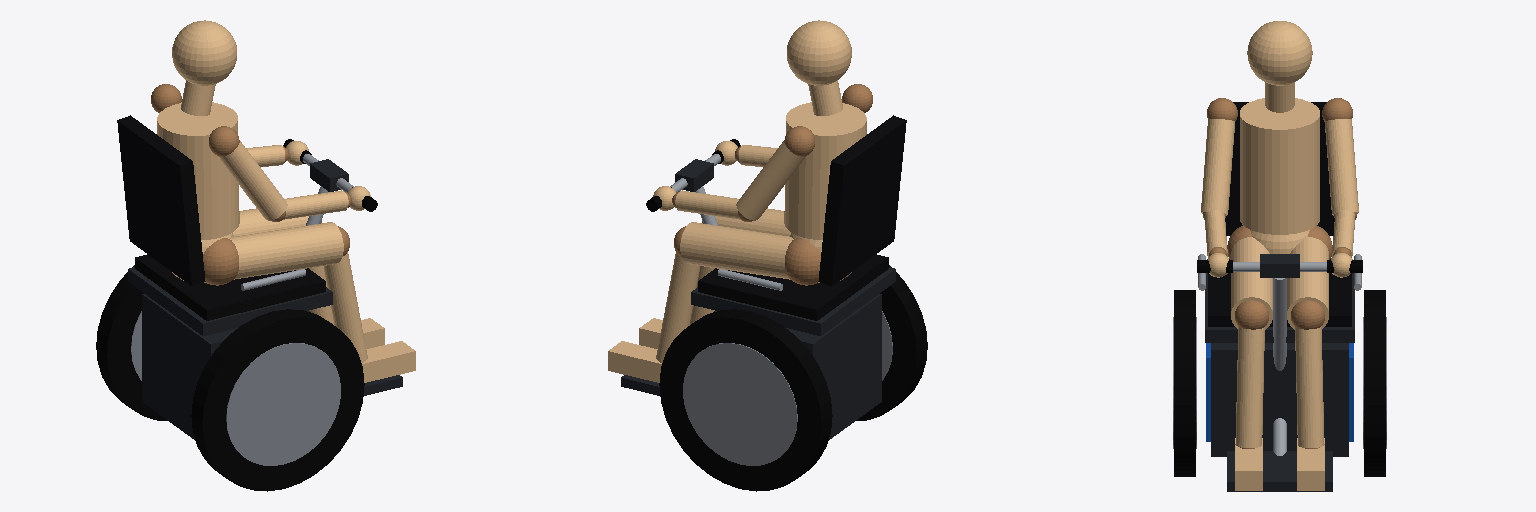
The robot description file, URDF, robot "balance_bot_rider":
<?xml version="1.0"?>
<!--
  Self-balancing chair shaped after the Genny Zero, with a seated mannequin (rider task).
  Generated by build_rider_model.py (primitive shapes only).
  Frame convention: +x forward, +y left, +z up. base_link origin 0.305 m above the wheel axle (as in tw_balance.urdf).

  Physics of base_link and the wheels is IDENTICAL to tw_balance.urdf (55 kg, 2 x 5 kg wheels, r = 0.3 m, track 0.61 m);
  only the base_link collision box changed shape (it never touches flat ground before the tilt termination).
  Rider (1.75 m mannequin, mass fractions after Dempster / Winter 2009):
    rider_legs : pelvis + legs, 46.4 % of the rider mass, fixed to the chair (fixed joint, keep merge_fixed_joints=False)
    rider      : head + trunk + arms, 53.6 % of the rider mass, on the hip joint rider_joint (axis y, + = lean forward)
  Both rider links weigh 1 kg here; the rider_mass event adds the fraction of the rider mass and scales the inertia.
  Seat top 0.64 m above the floor, hip joints 0.09 m above the seat and 0.10 m behind the axle.
-->
<robot name="balance_bot_rider">

  <material name="chassis"><color rgba="0.170 0.180 0.200 1.000"/></material>
  <material name="accent"><color rgba="0.130 0.360 0.690 1.000"/></material>
  <material name="cushion"><color rgba="0.080 0.080 0.090 1.000"/></material>
  <material name="metal"><color rgba="0.620 0.640 0.670 1.000"/></material>
  <material name="rubber"><color rgba="0.060 0.060 0.060 1.000"/></material>
  <material name="tyre"><color rgba="0.070 0.070 0.070 1.000"/></material>
  <material name="hub"><color rgba="0.550 0.570 0.600 1.000"/></material>
  <material name="mannequin"><color rgba="0.870 0.730 0.560 1.000"/></material>
  <material name="joint"><color rgba="0.660 0.500 0.360 1.000"/></material>

  <link name="base_link">
    <visual><origin xyz="0.000 0.000 -0.285" rpy="0.000 0.000 0.000"/><geometry><box size="0.400 0.440 0.380"/></geometry><material name="chassis"/></visual>
    <visual><origin xyz="0.000 0.228 -0.285" rpy="0.000 0.000 0.000"/><geometry><box size="0.340 0.020 0.300"/></geometry><material name="accent"/></visual>
    <visual><origin xyz="0.000 -0.228 -0.285" rpy="0.000 0.000 0.000"/><geometry><box size="0.340 0.020 0.300"/></geometry><material name="accent"/></visual>
    <visual><origin xyz="-0.010 0.000 -0.070" rpy="0.000 0.000 0.000"/><geometry><box size="0.220 0.240 0.080"/></geometry><material name="chassis"/></visual>
    <visual><origin xyz="0.000 0.000 -0.027" rpy="0.000 0.000 0.000"/><geometry><box size="0.480 0.480 0.045"/></geometry><material name="chassis"/></visual>
    <visual><origin xyz="0.000 0.000 0.007" rpy="0.000 0.000 0.000"/><geometry><box size="0.440 0.460 0.056"/></geometry><material name="cushion"/></visual>
    <visual><origin xyz="-0.255 0.000 0.335" rpy="0.000 -0.105 0.000"/><geometry><box size="0.050 0.400 0.440"/></geometry><material name="cushion"/></visual>
    <visual><origin xyz="0.265 0.000 0.030" rpy="-0.000 0.416 0"/><geometry><cylinder radius="0.021" length="0.470"/></geometry><material name="metal"/></visual>
    <visual><origin xyz="0.365 0.000 0.280" rpy="0.000 0.000 0.000"/><geometry><box size="0.070 0.130 0.050"/></geometry><material name="chassis"/></visual>
    <visual><origin xyz="0.370 0.000 0.280" rpy="-1.571 0.000 0"/><geometry><cylinder radius="0.016" length="0.300"/></geometry><material name="metal"/></visual>
    <visual><origin xyz="0.370 0.208 0.280" rpy="-1.571 0.000 0"/><geometry><cylinder radius="0.021" length="0.115"/></geometry><material name="rubber"/></visual>
    <visual><origin xyz="0.015 0.250 0.095" rpy="-0.000 1.571 0"/><geometry><cylinder radius="0.012" length="0.230"/></geometry><material name="metal"/></visual>
    <visual><origin xyz="0.370 -0.208 0.280" rpy="1.571 0.000 0"/><geometry><cylinder radius="0.021" length="0.115"/></geometry><material name="rubber"/></visual>
    <visual><origin xyz="0.015 -0.250 0.095" rpy="-0.000 1.571 0"/><geometry><cylinder radius="0.012" length="0.230"/></geometry><material name="metal"/></visual>
    <visual><origin xyz="0.420 0.000 -0.421" rpy="0.000 0.000 0.000"/><geometry><box size="0.240 0.340 0.032"/></geometry><material name="chassis"/></visual>
    <visual><origin xyz="0.250 0.000 -0.385" rpy="-0.000 2.032 0"/><geometry><cylinder radius="0.022" length="0.179"/></geometry><material name="metal"/></visual>
    <collision>
      <origin xyz="0.000 0 -0.220" rpy="0 0 0"/>
      <geometry><box size="0.46 0.44 0.51"/></geometry>
    </collision>
    <inertial>
      <origin xyz="0 0 0" rpy="0 0 0"/>
      <mass value="55.0"/>
      <inertia ixx="3.506" iyy="3.506" izz="1.856" ixy="0" ixz="0" iyz="0"/>
    </inertial>
  </link>

  <link name="left_wheel">
    <visual><origin xyz="0 0 0" rpy="1.5708 0 0"/><geometry><cylinder radius="0.3" length="0.07"/></geometry><material name="tyre"/></visual>
    <visual><origin xyz="0 0 0" rpy="1.5708 0 0"/><geometry><cylinder radius="0.212" length="0.075"/></geometry><material name="hub"/></visual>
    <collision>
      <origin xyz="0 0 0" rpy="1.5708 0 0"/>
      <geometry><cylinder radius="0.3" length="0.04"/></geometry>
    </collision>
    <inertial>
      <origin xyz="0 0 0" rpy="0 0 0"/>
      <mass value="5.0"/>
      <inertia ixx="0.113" iyy="0.225" izz="0.113" ixy="0" ixz="0" iyz="0"/>
    </inertial>
  </link>

  <joint name="left_wheel_joint" type="continuous">
    <parent link="base_link"/>
    <child link="left_wheel"/>
    <origin xyz="0 0.305 -0.305" rpy="0 0 0"/>
    <axis xyz="0 1 0"/>
    <dynamics damping="0.0" friction="0.0"/>
    <limit effort="1.0" velocity="50.0"/>
  </joint>

  <link name="right_wheel">
    <visual><origin xyz="0 0 0" rpy="1.5708 0 0"/><geometry><cylinder radius="0.3" length="0.07"/></geometry><material name="tyre"/></visual>
    <visual><origin xyz="0 0 0" rpy="1.5708 0 0"/><geometry><cylinder radius="0.212" length="0.075"/></geometry><material name="hub"/></visual>
    <collision>
      <origin xyz="0 0 0" rpy="1.5708 0 0"/>
      <geometry><cylinder radius="0.3" length="0.04"/></geometry>
    </collision>
    <inertial>
      <origin xyz="0 0 0" rpy="0 0 0"/>
      <mass value="5.0"/>
      <inertia ixx="0.113" iyy="0.225" izz="0.113" ixy="0" ixz="0" iyz="0"/>
    </inertial>
  </link>

  <joint name="right_wheel_joint" type="continuous">
    <parent link="base_link"/>
    <child link="right_wheel"/>
    <origin xyz="0 -0.305 -0.305" rpy="0 0 0"/>
    <axis xyz="0 1 0"/>
    <dynamics damping="0.0" friction="0.0"/>
    <limit effort="1.0" velocity="50.0"/>
  </joint>

  <!-- pelvis and legs: fixed to the chair. Link frame = hip joint centre. -->
  <link name="rider_legs">
    <visual><origin xyz="-0.020 0.000 0.020"/><geometry><sphere radius="0.120"/></geometry><material name="mannequin"/></visual>
    <visual><origin xyz="0.214 0.090 -0.019" rpy="-0.000 1.658 0"/><geometry><cylinder radius="0.068" length="0.429"/></geometry><material name="mannequin"/></visual>
    <visual><origin xyz="0.000 0.090 0.000"/><geometry><sphere radius="0.080"/></geometry><material name="joint"/></visual>
    <visual><origin xyz="0.427 0.090 -0.037"/><geometry><sphere radius="0.056"/></geometry><material name="joint"/></visual>
    <visual><origin xyz="0.464 0.095 -0.249" rpy="-0.023 2.967 0"/><geometry><cylinder radius="0.043" length="0.431"/></geometry><material name="mannequin"/></visual>
    <visual><origin xyz="0.427 0.090 -0.037"/><geometry><sphere radius="0.050"/></geometry><material name="joint"/></visual>
    <visual><origin xyz="0.502 0.100 -0.461"/><geometry><sphere radius="0.035"/></geometry><material name="joint"/></visual>
    <visual><origin xyz="0.577 0.100 -0.496" rpy="0.000 0.000 0.000"/><geometry><box size="0.250 0.090 0.070"/></geometry><material name="mannequin"/></visual>
    <visual><origin xyz="0.214 -0.090 -0.019" rpy="-0.000 1.658 0"/><geometry><cylinder radius="0.068" length="0.429"/></geometry><material name="mannequin"/></visual>
    <visual><origin xyz="0.000 -0.090 0.000"/><geometry><sphere radius="0.080"/></geometry><material name="joint"/></visual>
    <visual><origin xyz="0.427 -0.090 -0.037"/><geometry><sphere radius="0.056"/></geometry><material name="joint"/></visual>
    <visual><origin xyz="0.464 -0.095 -0.249" rpy="0.023 2.967 0"/><geometry><cylinder radius="0.043" length="0.431"/></geometry><material name="mannequin"/></visual>
    <visual><origin xyz="0.427 -0.090 -0.037"/><geometry><sphere radius="0.050"/></geometry><material name="joint"/></visual>
    <visual><origin xyz="0.502 -0.100 -0.461"/><geometry><sphere radius="0.035"/></geometry><material name="joint"/></visual>
    <visual><origin xyz="0.577 -0.100 -0.496" rpy="0.000 0.000 0.000"/><geometry><box size="0.250 0.090 0.070"/></geometry><material name="mannequin"/></visual>
    <inertial>
      <origin xyz="0.1987 0.0000 -0.0823" rpy="0 0 0"/>
      <mass value="1.0"/>
      <inertia ixx="0.03095" iyy="0.06907" izz="0.05457" ixy="-0.00000" ixz="0.02422" iyz="0.00000"/>
    </inertial>
  </link>

  <joint name="rider_legs_joint" type="fixed">
    <parent link="base_link"/>
    <child link="rider_legs"/>
    <origin xyz="-0.100 0 0.125" rpy="0 0 0"/>
  </joint>

  <!-- head, trunk and arms: lean about the hip joint. Link frame = hip joint centre. -->
  <link name="rider">
    <visual><origin xyz="-0.018 0.000 0.285" rpy="-0.000 -0.014 0"/><geometry><cylinder radius="0.130" length="0.370"/></geometry><material name="mannequin"/></visual>
    <visual><origin xyz="-0.017 0.000 0.557" rpy="-0.000 0.214 0"/><geometry><cylinder radius="0.048" length="0.118"/></geometry><material name="mannequin"/></visual>
    <visual><origin xyz="0.005 0.000 0.695"/><geometry><sphere radius="0.105"/></geometry><material name="mannequin"/></visual>
    <visual><origin xyz="0.058 0.198 0.328" rpy="-0.077 2.568 0"/><geometry><cylinder radius="0.044" length="0.326"/></geometry><material name="mannequin"/></visual>
    <visual><origin xyz="-0.030 0.185 0.465"/><geometry><sphere radius="0.050"/></geometry><material name="joint"/></visual>
    <visual><origin xyz="0.147 0.210 0.192"/><geometry><sphere radius="0.038"/></geometry><material name="joint"/></visual>
    <visual><origin xyz="0.274 0.205 0.177" rpy="0.039 1.683 0"/><geometry><cylinder radius="0.033" length="0.256"/></geometry><material name="mannequin"/></visual>
    <visual><origin xyz="0.147 0.210 0.192"/><geometry><sphere radius="0.036"/></geometry><material name="joint"/></visual>
    <visual><origin xyz="0.400 0.200 0.163"/><geometry><sphere radius="0.029"/></geometry><material name="joint"/></visual>
    <visual><origin xyz="0.460 0.198 0.156"/><geometry><sphere radius="0.040"/></geometry><material name="mannequin"/></visual>
    <visual><origin xyz="0.058 -0.198 0.328" rpy="0.077 2.568 0"/><geometry><cylinder radius="0.044" length="0.326"/></geometry><material name="mannequin"/></visual>
    <visual><origin xyz="-0.030 -0.185 0.465"/><geometry><sphere radius="0.050"/></geometry><material name="joint"/></visual>
    <visual><origin xyz="0.147 -0.210 0.192"/><geometry><sphere radius="0.038"/></geometry><material name="joint"/></visual>
    <visual><origin xyz="0.274 -0.205 0.177" rpy="-0.039 1.683 0"/><geometry><cylinder radius="0.033" length="0.256"/></geometry><material name="mannequin"/></visual>
    <visual><origin xyz="0.147 -0.210 0.192"/><geometry><sphere radius="0.036"/></geometry><material name="joint"/></visual>
    <visual><origin xyz="0.400 -0.200 0.163"/><geometry><sphere radius="0.029"/></geometry><material name="joint"/></visual>
    <visual><origin xyz="0.460 -0.198 0.156"/><geometry><sphere radius="0.040"/></geometry><material name="mannequin"/></visual>
    <inertial>
      <origin xyz="0.0208 -0.0000 0.3445" rpy="0 0 0"/>
      <mass value="1.0"/>
      <inertia ixx="0.04407" iyy="0.04402" izz="0.02256" ixy="0.00000" ixz="0.00435" iyz="0.00000"/>
    </inertial>
  </link>

  <joint name="rider_joint" type="revolute">
    <parent link="base_link"/>
    <child link="rider"/>
    <origin xyz="-0.100 0 0.125" rpy="0 0 0"/>
    <axis xyz="0 1 0"/>
    <dynamics damping="0.0" friction="0.0"/>
    <limit lower="-0.40" upper="0.40" effort="1000.0" velocity="10.0"/>
  </joint>

</robot>

--- Facts derived from the render (not from the file) ---
The picture shows the robot from 3 angles, left to right: view 1: azimuth 30°, elevation 25°; view 2: azimuth 150°, elevation 25°; view 3: azimuth 270°, elevation 25°; orthographic projection.
Model balance_bot_rider with 5 links and 4 joints (1 revolute, 2 continuous, 1 fixed), rooted at base_link, posed all joints at 0.
Visible links, largest first — view 1: base_link, right_wheel, rider, rider_legs, left_wheel; view 2: base_link, left_wheel, rider, rider_legs, right_wheel; view 3: rider, base_link, rider_legs, left_wheel, right_wheel.
Link boxes in pixels (<box>): base_link: <box>117,115,402,439</box>; right_wheel: <box>191,309,364,491</box>; rider: <box>151,20,370,239</box>; rider_legs: <box>172,208,415,382</box>; left_wheel: <box>96,265,167,420</box>; base_link: <box>621,115,906,439</box>; left_wheel: <box>659,309,832,491</box>; rider: <box>653,20,872,239</box>; rider_legs: <box>608,208,851,382</box>; right_wheel: <box>856,265,927,420</box>; rider: <box>1201,21,1358,277</box>; base_link: <box>1197,102,1362,491</box>; rider_legs: <box>1227,225,1332,490</box>; left_wheel: <box>1363,290,1386,476</box>; right_wheel: <box>1173,290,1196,476</box>.
Bounding box of the posed robot: 0.9049 × 0.685 × 1.53 m (x, y, z).
Geometry: primitives only (box / cylinder / sphere), no mesh files.
